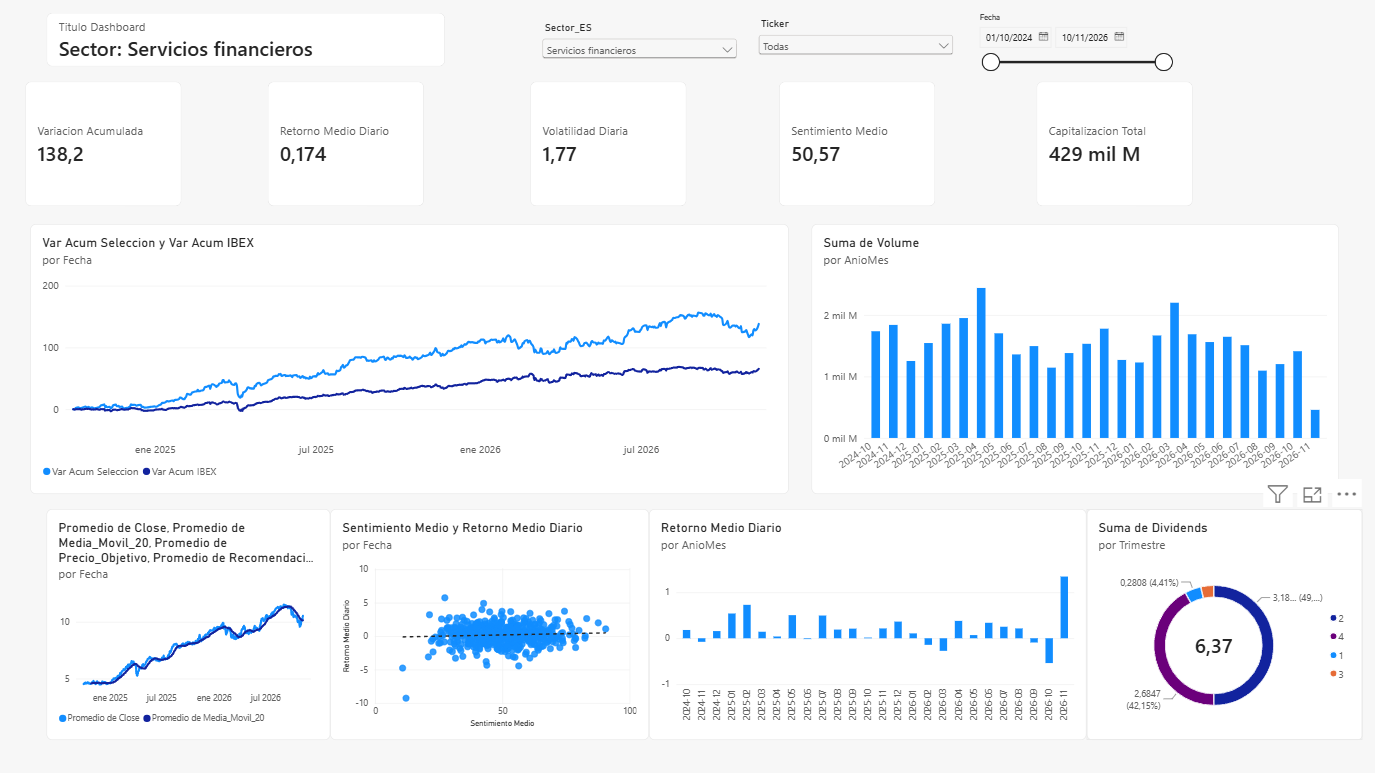

The page's visual inventory and layout, read from the dashboard file:
{"tool":"powerbi","page":{"name":"Dashboard","canvas":[1920,1080],"ordinal":3},"visuals":[{"type":"slicer","fields":{"Values":["Empresa.Sector_ES"]},"box":[753.5,31.4,280.8,68],"z":0},{"type":"slicer","fields":{"Values":["Empresa.Ticker"]},"box":[1055.2,26.2,280.8,80.2],"z":1000},{"type":"slicer","fields":{"Values":["Fecha.Fecha"]},"box":[1360.5,19.2,280.8,95.9],"z":2000},{"type":"cardVisual","fields":{"Data":["Hechos.Variacion Acumulada"]},"box":[36.6,115.1,218,174.4],"z":3000},{"type":"cardVisual","fields":{"Data":["Hechos.Retorno Medio Diario"]},"box":[375,115.1,218,174.4],"z":4000},{"type":"cardVisual","fields":{"Data":["Hechos.Volatilidad Diaria"]},"box":[741.3,115.1,218,174.4],"z":5000},{"type":"cardVisual","fields":{"Data":["Hechos.Sentimiento Medio"]},"box":[1088.4,115.1,218,174.4],"z":6000},{"type":"cardVisual","fields":{"Data":["Hechos.Capitalizacion Total"]},"box":[1447.7,115.1,218,174.4],"z":7000},{"type":"lineChart","fields":{"Category":["Fecha.Fecha"],"Y":["Hechos.Var Acum Seleccion","Hechos.Var Acum IBEX"]},"box":[43.6,314,1058.7,376.7],"z":8000},{"type":"clusteredColumnChart","fields":{"Category":["Fecha.AnioMes"],"Y":["Sum(Hechos.Volume)"]},"box":[1133.7,314,736,376.7],"z":9000},{"type":"lineChart","fields":{"Category":["Fecha.Fecha"],"Y":["Avg(Hechos.Close)","Avg(Hechos.Media_Movil_20)"]},"box":[66.3,711.6,395.9,322.7],"z":10000},{"type":"scatterChart","fields":{"Category":["Fecha.Fecha"],"X":["Hechos.Sentimiento Medio"],"Y":["Hechos.Retorno Medio Diario"]},"box":[462.2,711.6,444.8,322.7],"z":11000},{"type":"clusteredColumnChart","fields":{"Category":["Fecha.AnioMes"],"Y":["Hechos.Retorno Medio Diario"]},"box":[907,711.6,610.5,322.7],"z":12000},{"type":"donutChart","fields":{"Category":["Fecha.Trimestre"],"Y":["Sum(Hechos.Dividends)"]},"box":[1517.4,711.6,385.5,322.7],"z":13000},{"type":"cardVisual","fields":{"Data":["Hechos.Titulo Dashboard"]},"box":[66.3,19.2,556.4,75],"z":13001}]}

Visuals, with their boxes in screenshot pixels (x1, y1, x2, y2), scaled from the page's 1920x1080 canvas onto the 1375x773 screenshot:
slicer - Empresa.Sector_ES: pyautogui.locateOnScreen(540, 22, 741, 71)
slicer - Empresa.Ticker: pyautogui.locateOnScreen(756, 19, 957, 76)
slicer - Fecha.Fecha: pyautogui.locateOnScreen(974, 14, 1175, 82)
cardVisual - Hechos.Variacion Acumulada: pyautogui.locateOnScreen(26, 82, 182, 207)
cardVisual - Hechos.Retorno Medio Diario: pyautogui.locateOnScreen(269, 82, 425, 207)
cardVisual - Hechos.Volatilidad Diaria: pyautogui.locateOnScreen(531, 82, 687, 207)
cardVisual - Hechos.Sentimiento Medio: pyautogui.locateOnScreen(779, 82, 936, 207)
cardVisual - Hechos.Capitalizacion Total: pyautogui.locateOnScreen(1037, 82, 1193, 207)
lineChart - Fecha.Fecha x Hechos.Var Acum Seleccion: pyautogui.locateOnScreen(31, 225, 789, 494)
clusteredColumnChart - Fecha.AnioMes x Sum(Hechos.Volume): pyautogui.locateOnScreen(812, 225, 1339, 494)
lineChart - Fecha.Fecha x Avg(Hechos.Close): pyautogui.locateOnScreen(47, 509, 331, 740)
scatterChart - Fecha.Fecha x Hechos.Sentimiento Medio: pyautogui.locateOnScreen(331, 509, 650, 740)
clusteredColumnChart - Fecha.AnioMes x Hechos.Retorno Medio Diario: pyautogui.locateOnScreen(650, 509, 1087, 740)
donutChart - Fecha.Trimestre x Sum(Hechos.Dividends): pyautogui.locateOnScreen(1087, 509, 1363, 740)
cardVisual - Hechos.Titulo Dashboard: pyautogui.locateOnScreen(47, 14, 446, 67)
